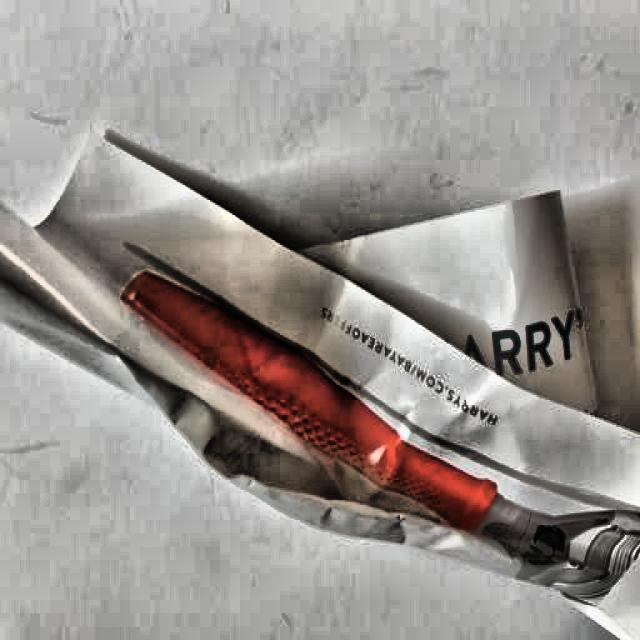paper: (0, 128, 640, 640)
